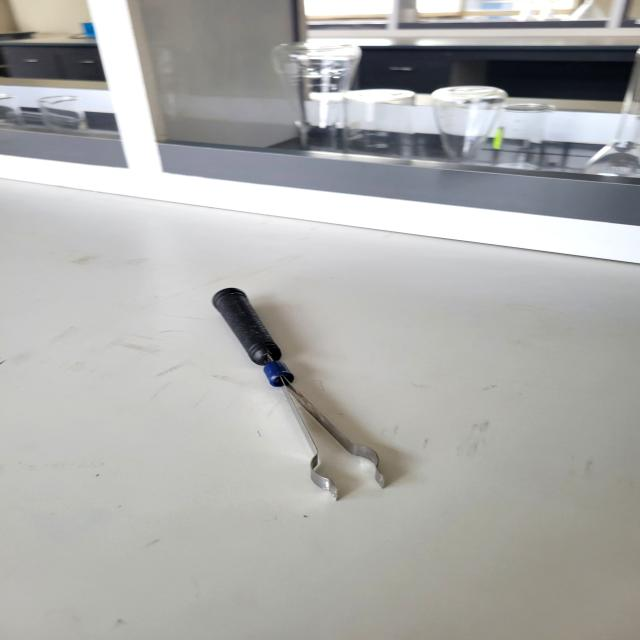TestTube_Holder: (182, 274, 394, 523)
